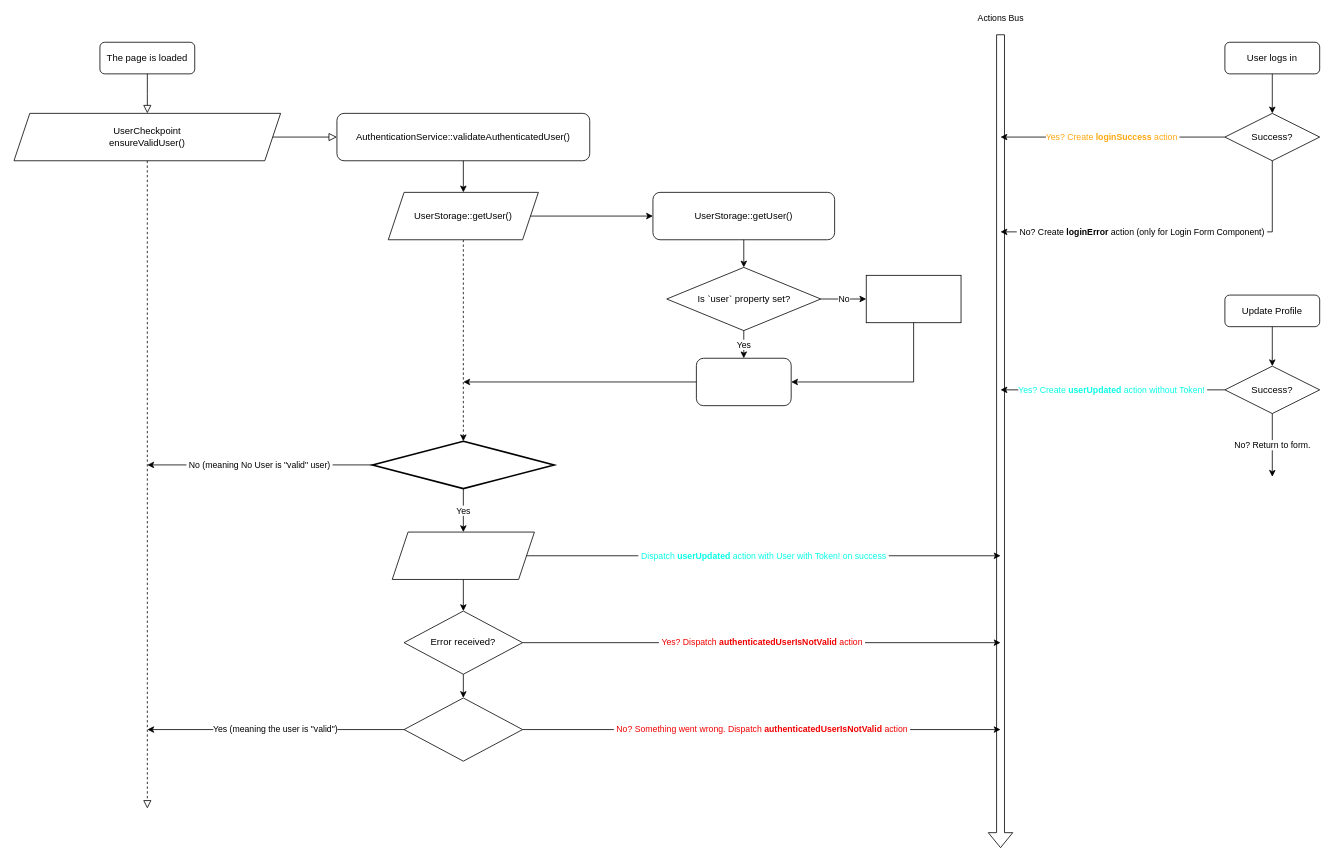
The diagram is 1334 pixels wide and 862 high, and some of its shapes have lost their labels. Here are the shapes that lost their labels. From the top down, the centre of each, then its label:
At point 913,299: "Try to load user from Local Storage".
At point 743,381: "return `user`".
At point 463,464: "Is there a stored user?".
At point 462,555: "Post whoami request".
At point 463,729: "Email correspond?".
